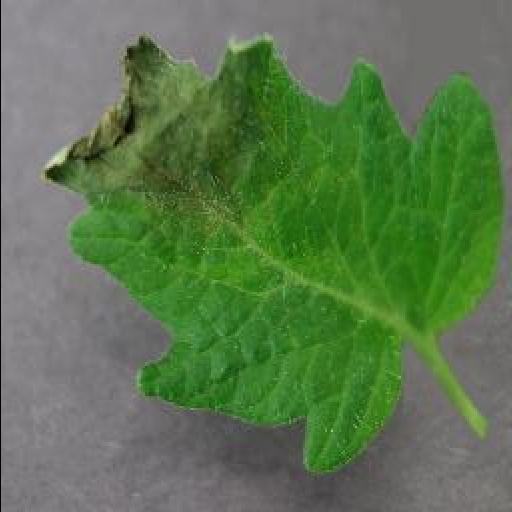disease_tomato: (33, 32, 503, 476)
